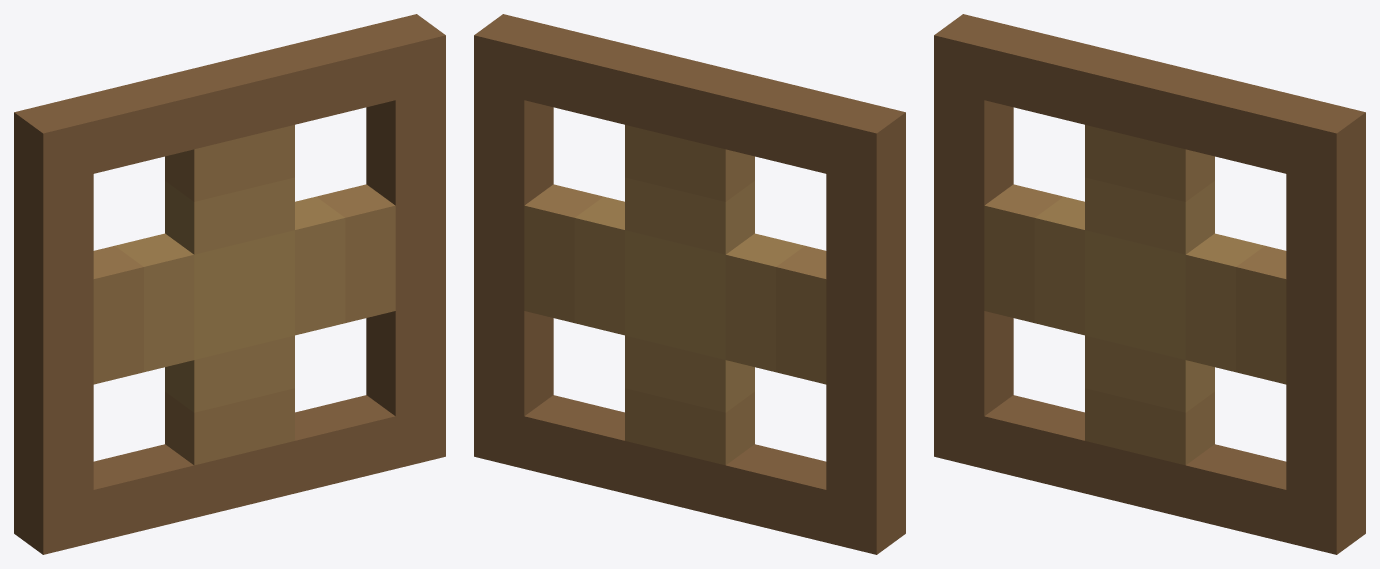
File: Maple Trapdoor.glb
3 renders of one model, left to right at view 1: azimuth 30°, elevation 25°; view 2: azimuth 150°, elevation 25°; view 3: azimuth 330°, elevation 25°, orthographic.
Visible parts, largest first — view 1: generated(Clone); view 2: generated(Clone); view 3: generated(Clone).
Boxes of the visible parts, x1,y1,x2,y2 form: generated(Clone): (14, 14, 445, 554); generated(Clone): (474, 14, 905, 554); generated(Clone): (934, 14, 1365, 554).
Size of the model in its own units: 8 by 8 by 1.
1 material, 1 textured.
